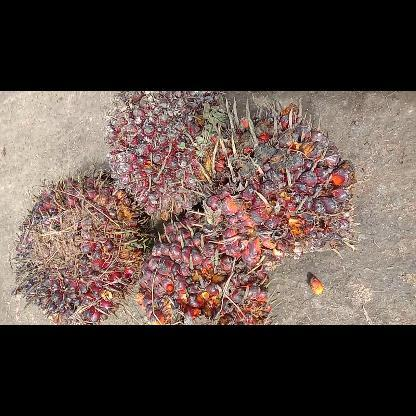Kurang masak: (11, 166, 152, 324), (103, 90, 239, 224)
TBS masak: (188, 95, 362, 271), (136, 190, 274, 324)
